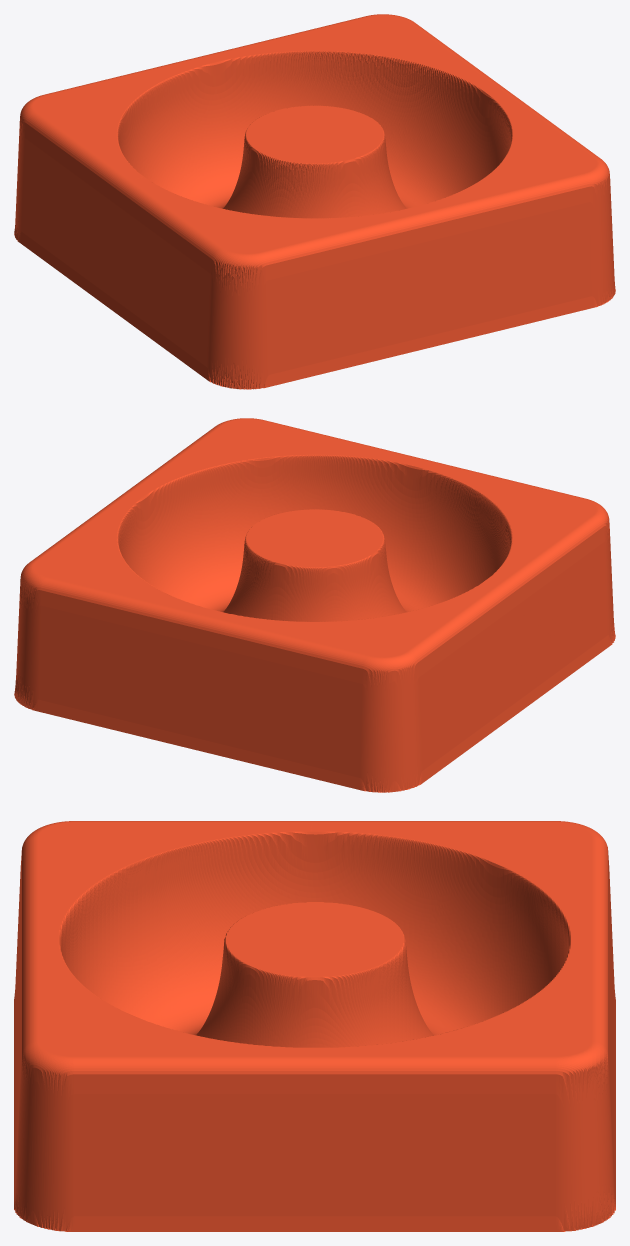
File: mold.glb
3 views of the same model, one above another, from view 1: azimuth 30°, elevation 25°; view 2: azimuth 150°, elevation 25°; view 3: azimuth 270°, elevation 25° (orthographic). The views are drawn at different scales.
Parts seen in each view (by area): view 1: geometry_0; view 2: geometry_0; view 3: geometry_0.
Part boxes in pixels (box(x1,y1,x2,y2)): geometry_0: box(14, 14, 615, 389); geometry_0: box(14, 418, 615, 792); geometry_0: box(14, 821, 615, 1231).
Size of the model in its own units: 0.0904 by 0.0274 by 0.0904.
